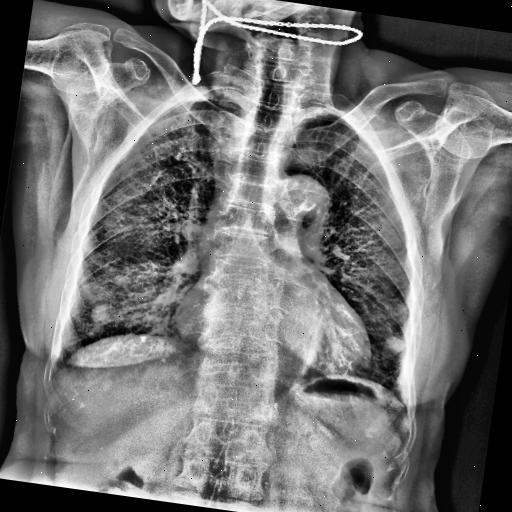0- Aortic enlargement: (258, 168, 335, 241), (257, 172, 337, 232), (272, 170, 330, 216)
3- Cardiomegaly: (168, 284, 378, 376), (166, 293, 376, 383)
5- ILD: (57, 150, 214, 368)
6- Infiltration: (70, 268, 172, 354)
7- Lung Opacity: (70, 268, 172, 354)
8- Nodule-Mass: (88, 302, 118, 326), (88, 304, 114, 322), (384, 332, 406, 352), (382, 334, 406, 352), (385, 334, 406, 354), (90, 306, 112, 324)
